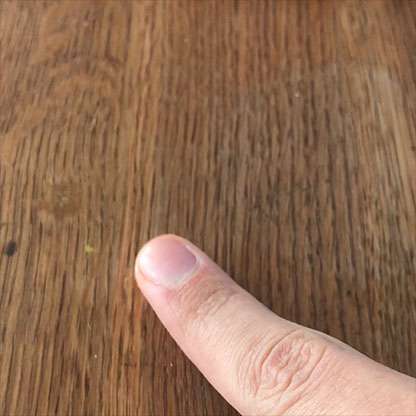fingertip: (116, 218, 228, 321)
